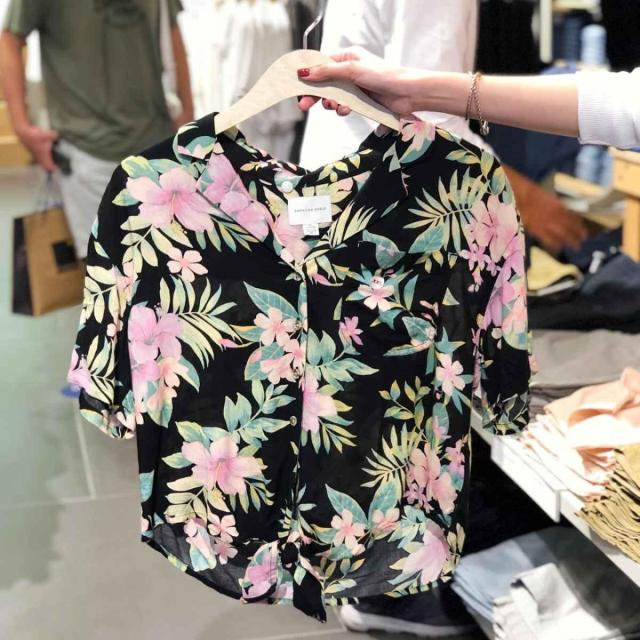shirt: (63, 115, 532, 600)
